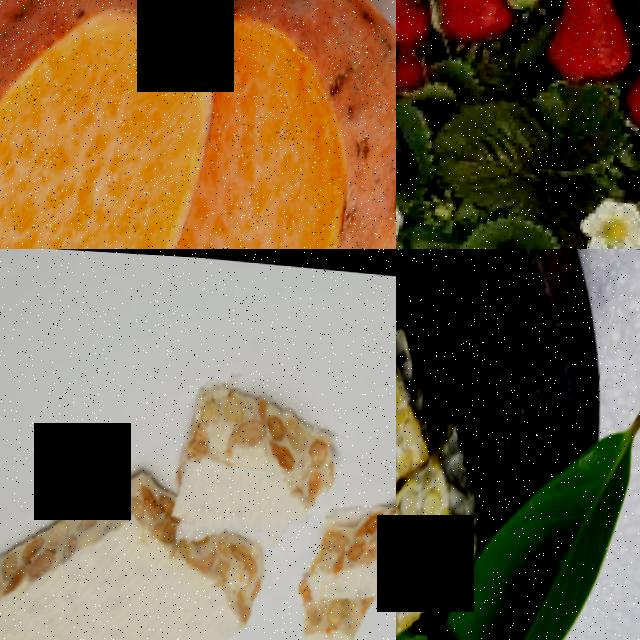strawberry: (547, 0, 640, 85), (433, 0, 507, 39)
sweet potato: (162, 0, 396, 249), (0, 0, 232, 249)
tempeh: (0, 467, 276, 640), (175, 383, 343, 547), (315, 484, 396, 618)
tofu: (396, 442, 494, 628), (396, 337, 442, 525)
